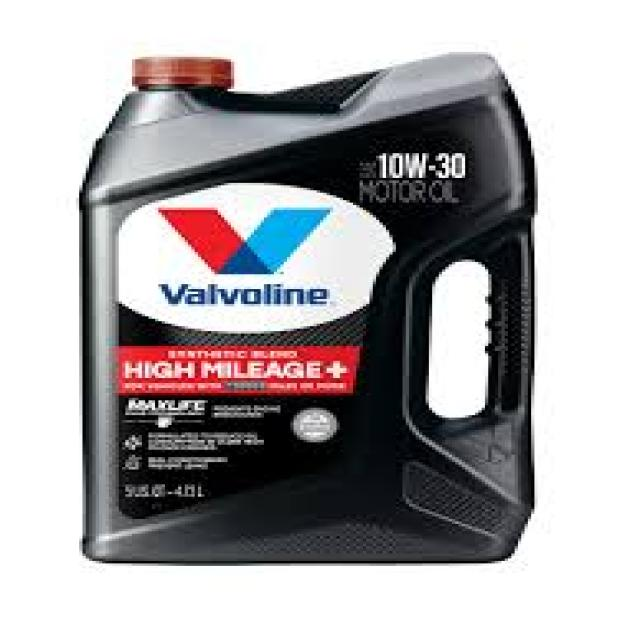motor_oil: (70, 46, 548, 574)
